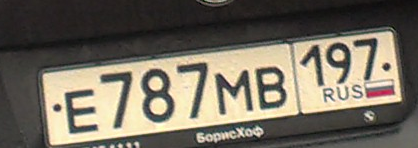character: (139, 65, 177, 124), (100, 70, 137, 130), (177, 59, 210, 121), (64, 87, 101, 136), (215, 70, 252, 118), (253, 65, 289, 110), (327, 41, 355, 86), (300, 45, 329, 88), (355, 35, 382, 81)
